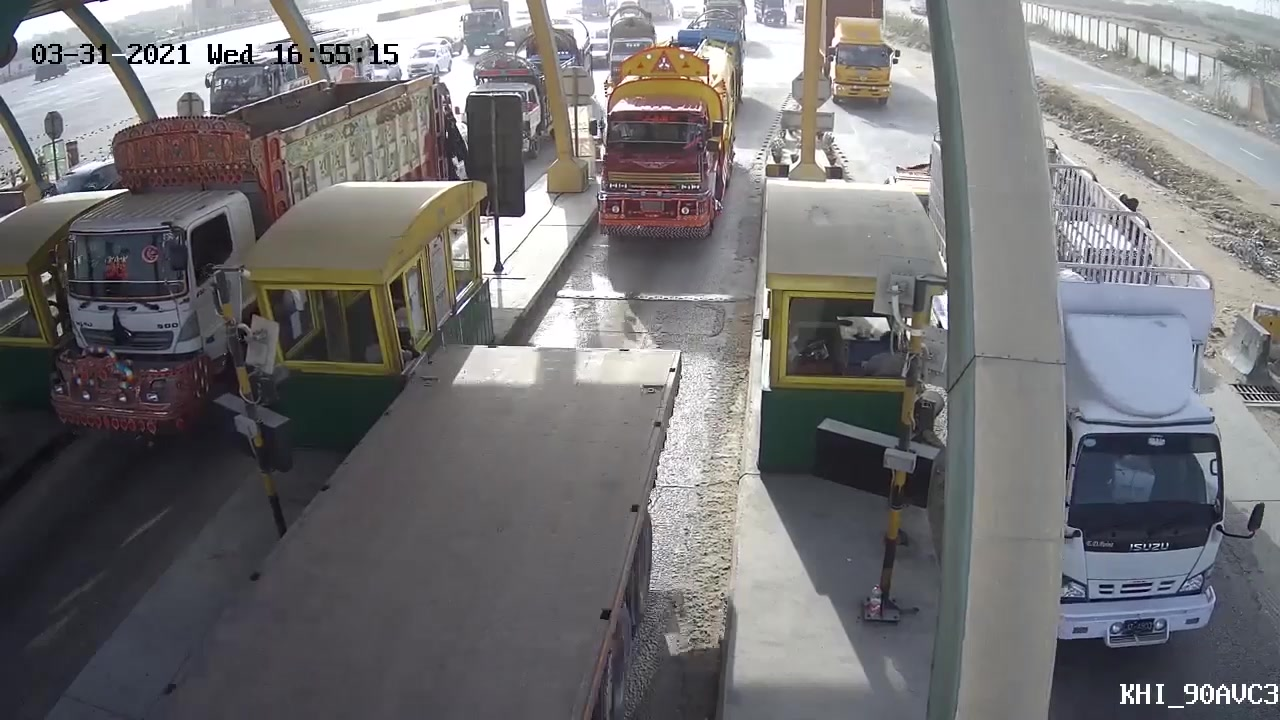F6: (586, 36, 744, 254)
